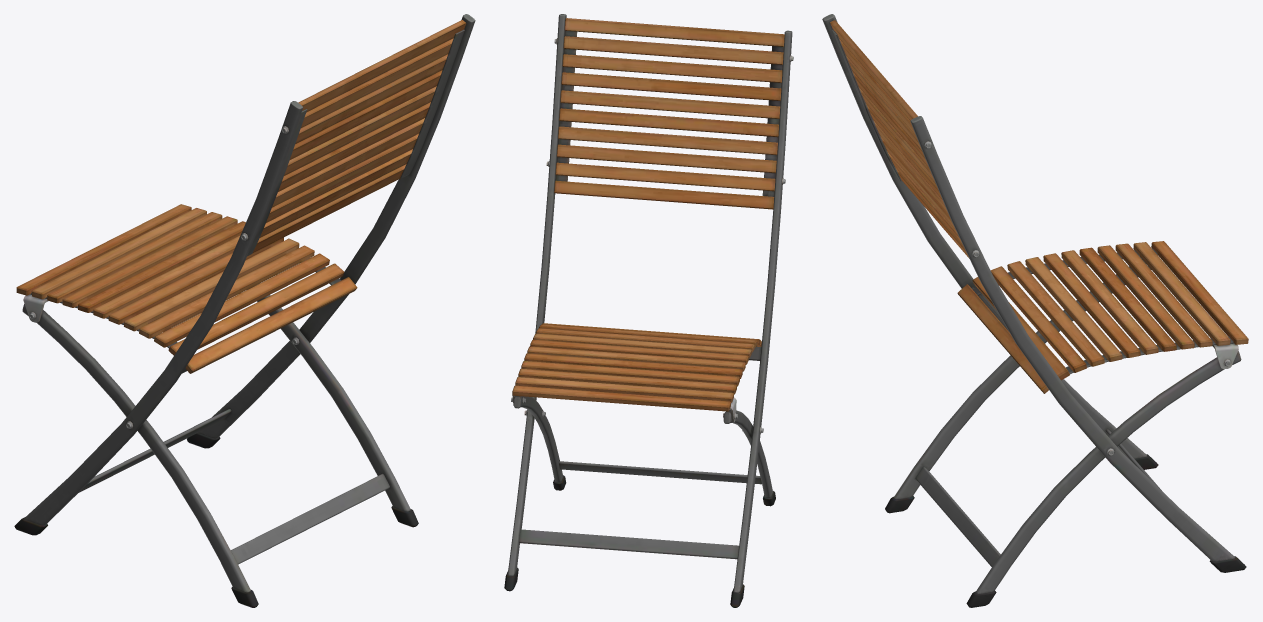
File: outdoor_table_chair_set_01_chair.glb
3 views of the same model, side by side, from view 1: azimuth 30°, elevation 25°; view 2: azimuth 150°, elevation 25°; view 3: azimuth 270°, elevation 25° (orthographic). The views are drawn at different scales.
Parts seen in each view (by area): view 1: outdoor_table_chair_set_01_chair; view 2: outdoor_table_chair_set_01_chair; view 3: outdoor_table_chair_set_01_chair.
Boxes of the visible parts, x1,y1,x2,y2 form: outdoor_table_chair_set_01_chair: (14, 14, 475, 607); outdoor_table_chair_set_01_chair: (504, 14, 793, 607); outdoor_table_chair_set_01_chair: (822, 14, 1248, 607).
Size of the model in its own units: 0.5741 by 0.8587 by 0.6612.
1 material, 1 textured.
